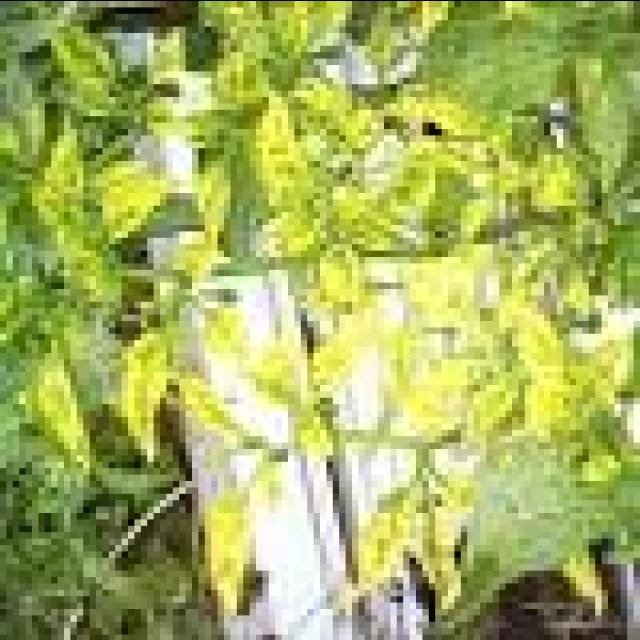virus_kuning: (119, 333, 172, 459), (88, 170, 182, 240)
